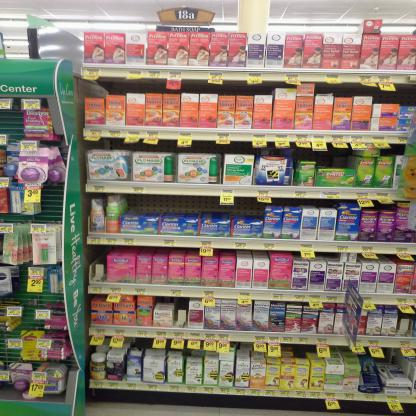Void: (127, 196, 271, 213), (318, 153, 348, 168), (380, 93, 416, 105)
